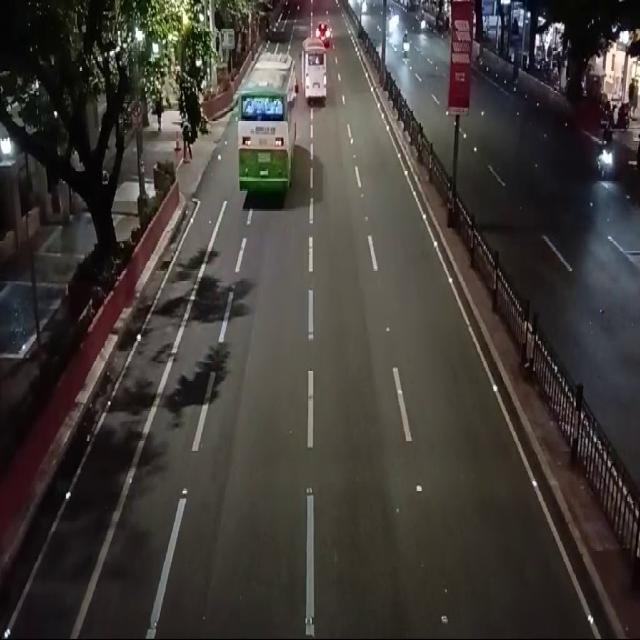bus: (232, 48, 297, 214)
jeepney: (301, 36, 327, 108)
